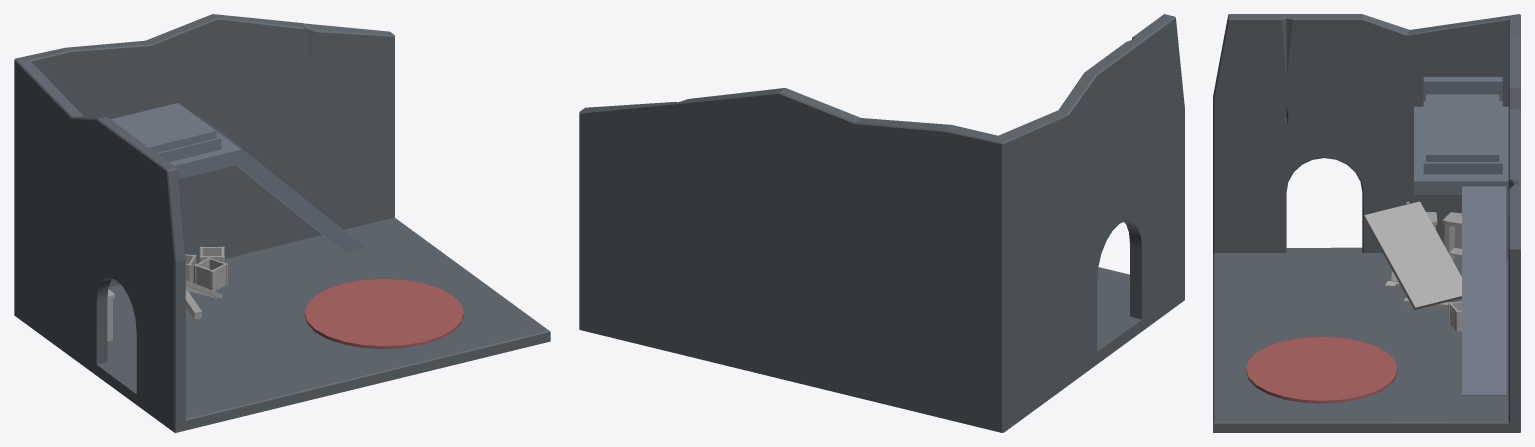
The model's file is Starting room.fbx.
3 views of the same model, side by side, from view 1: azimuth 30°, elevation 25°; view 2: azimuth 150°, elevation 25°; view 3: azimuth 270°, elevation 25° (orthographic). The views are drawn at different scales.
Visible parts, largest first — view 1: house_architecture, Spawn_rug, mattress, Bed_ramp, Bed_platform, Crate_3, Frame; view 2: house_architecture; view 3: house_architecture, Bed_ramp, Spawn_rug, Table_top, mattress, Bed_platform, Frame, Storage_2, Crate_3.
Part boxes in pixels (x1,y1,x2,y2): house_architecture: (14, 14, 550, 432); Spawn_rug: (304, 279, 463, 349); mattress: (111, 103, 216, 152); Bed_ramp: (197, 115, 364, 252); Bed_platform: (170, 132, 241, 179); Crate_3: (193, 257, 227, 291); Frame: (157, 135, 221, 162); house_architecture: (579, 14, 1184, 432); house_architecture: (1213, 14, 1520, 432); Bed_ramp: (1462, 186, 1506, 395); Spawn_rug: (1246, 337, 1397, 403); Table_top: (1363, 201, 1461, 309); mattress: (1426, 94, 1499, 161); Bed_platform: (1414, 106, 1508, 260); Frame: (1423, 77, 1502, 174); Storage_2: (1442, 212, 1461, 259); Crate_3: (1448, 301, 1461, 331).
Size of the model in its own units: 5.46 by 3.56 by 4.06.
